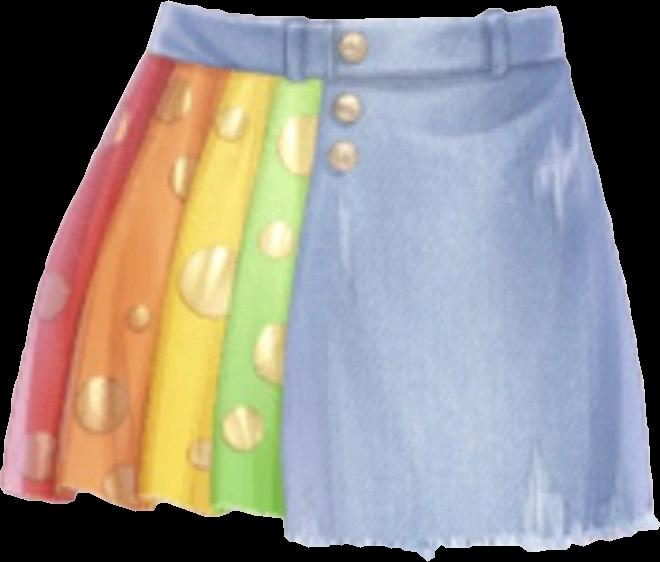Hemline: (280, 81, 659, 556), (0, 480, 284, 523)
Waistline: (143, 47, 567, 83), (159, 0, 555, 25)
